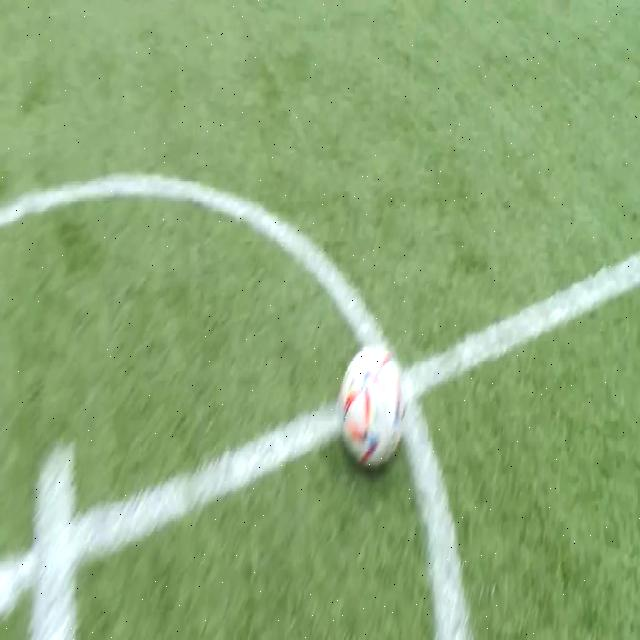ball: (340, 345, 406, 469)
